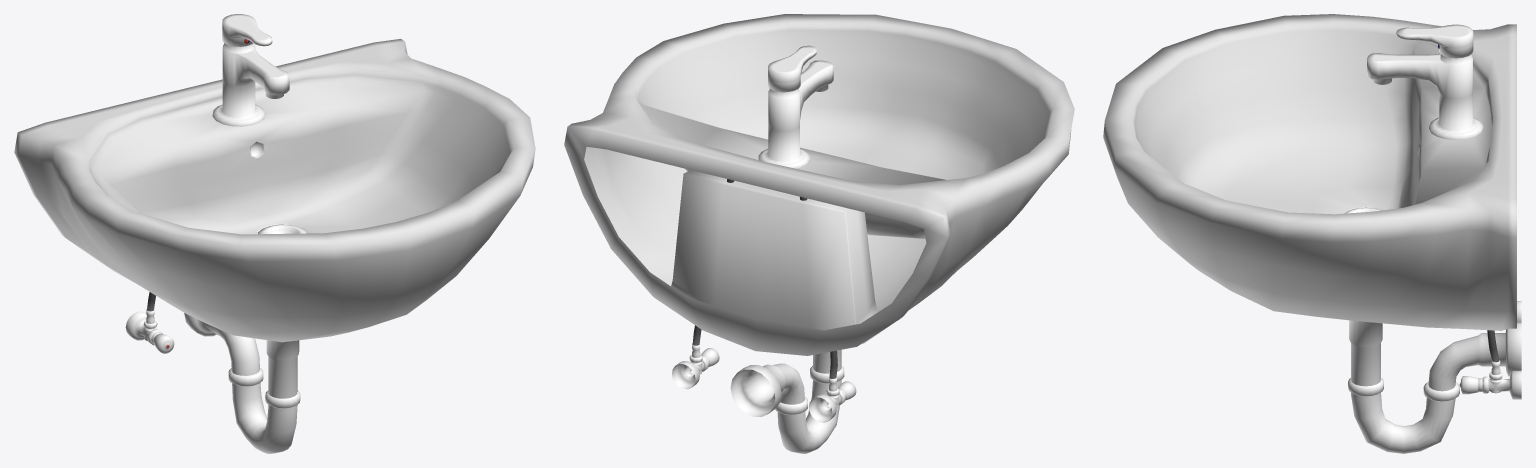
3 renders of one model, left to right at view 1: azimuth 30°, elevation 25°; view 2: azimuth 150°, elevation 25°; view 3: azimuth 270°, elevation 25°, orthographic. The views are drawn at different scales.
Visible parts, largest first — view 1: 1stFlr_Bathroom_Sink_Core, 1stFlr_Bathrooms_Sink_FaucetValve; view 2: 1stFlr_Bathroom_Sink_Core, 1stFlr_Bathrooms_Sink_FaucetValve; view 3: 1stFlr_Bathroom_Sink_Core, 1stFlr_Bathrooms_Sink_FaucetValve.
Part boxes in pixels (box(x1,y1,x2,y2)): 1stFlr_Bathroom_Sink_Core: box(14, 39, 535, 453); 1stFlr_Bathrooms_Sink_FaucetValve: box(222, 14, 272, 46); 1stFlr_Bathroom_Sink_Core: box(564, 14, 1074, 453); 1stFlr_Bathrooms_Sink_FaucetValve: box(768, 45, 816, 92); 1stFlr_Bathroom_Sink_Core: box(1103, 14, 1521, 453); 1stFlr_Bathrooms_Sink_FaucetValve: box(1396, 24, 1473, 58).
Size of the model in its own units: 61.09 by 56.67 by 51.1.
1 material, 1 textured.
